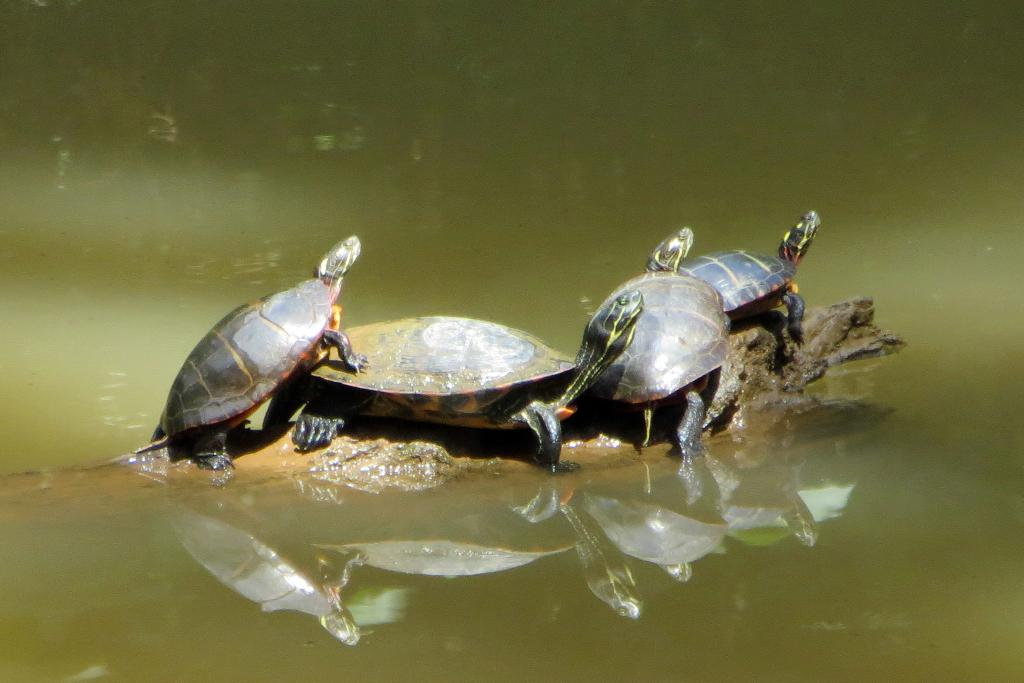Sea turtles: (293, 288, 641, 476), (136, 234, 366, 465), (567, 214, 732, 461), (671, 205, 822, 345)
